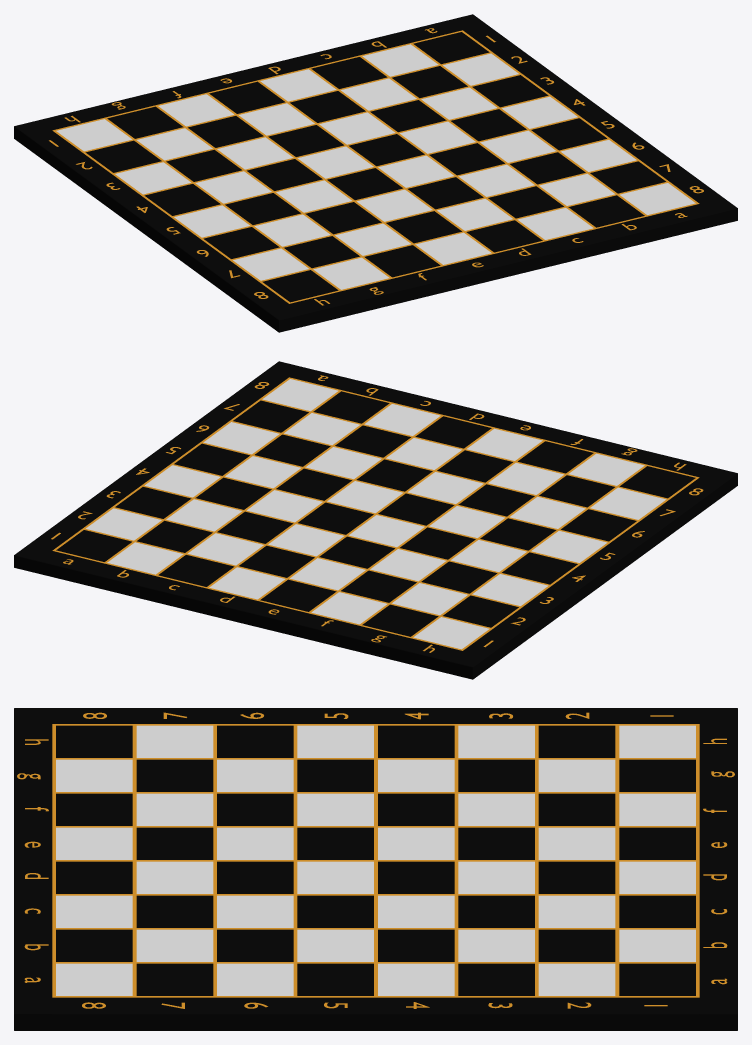
The model's file is ChessBoard.glb.
3 renders of one model, top to bottom at view 1: azimuth 30°, elevation 25°; view 2: azimuth 150°, elevation 25°; view 3: azimuth 270°, elevation 25°, orthographic. The views are drawn at different scales.
Visible parts, largest first — view 1: Board; view 2: Board; view 3: Board.
Part boxes in pixels (x1=…): Board: x1=14, y1=14, x2=737, y2=332; Board: x1=14, y1=361, x2=737, y2=679; Board: x1=14, y1=708, x2=737, y2=1030.
Bounding box in the file's own units: 18.9 × 0.501 × 18.9.
